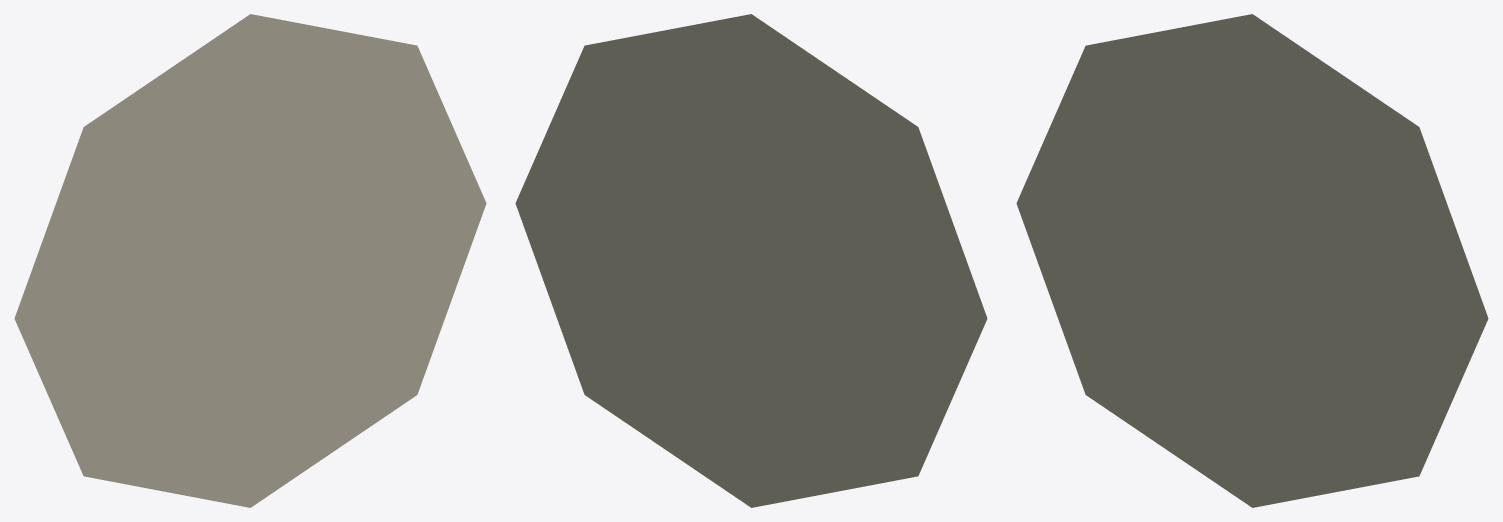
Rendered from yetiStoneYellowDot1.glb.
The picture shows the model from 3 angles, left to right: view 1: azimuth 30°, elevation 25°; view 2: azimuth 150°, elevation 25°; view 3: azimuth 330°, elevation 25°; orthographic projection.
Visible parts, largest first — view 1: yetiStoneYellowDot1; view 2: yetiStoneYellowDot1; view 3: yetiStoneYellowDot1.
Part boxes in pixels (x1,y1,x2,y2): yetiStoneYellowDot1: [14, 14, 486, 507]; yetiStoneYellowDot1: [515, 14, 987, 507]; yetiStoneYellowDot1: [1016, 14, 1488, 507].
Size of the model in its own units: 0.0566 by 0.0566 by 3.81e-06.
